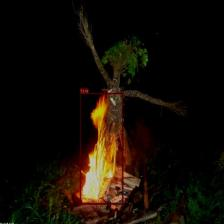fire: (80, 93, 123, 204)
